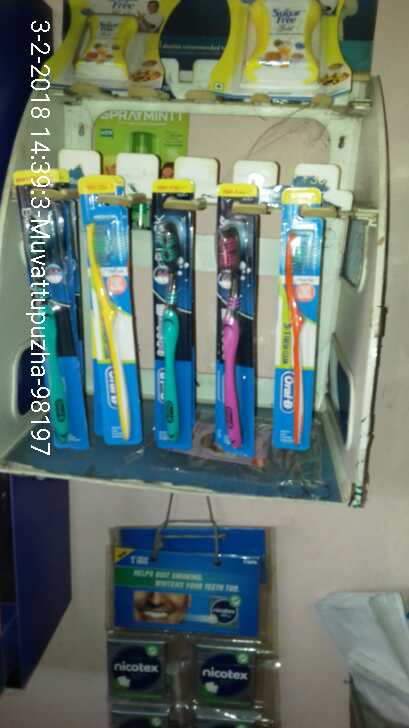oralb: (27, 193, 79, 439), (86, 215, 139, 444), (272, 213, 316, 449), (152, 212, 194, 444), (215, 213, 248, 454)
